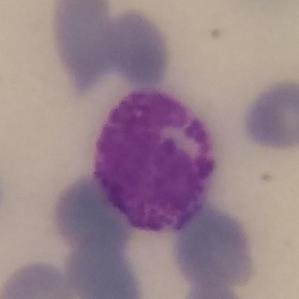Basophil: (85, 86, 227, 233)
RBC: (168, 203, 262, 293), (55, 173, 135, 254), (51, 0, 122, 91), (100, 7, 173, 88), (64, 243, 150, 299), (238, 77, 299, 153), (0, 258, 78, 299), (179, 277, 247, 299), (0, 157, 7, 227)
